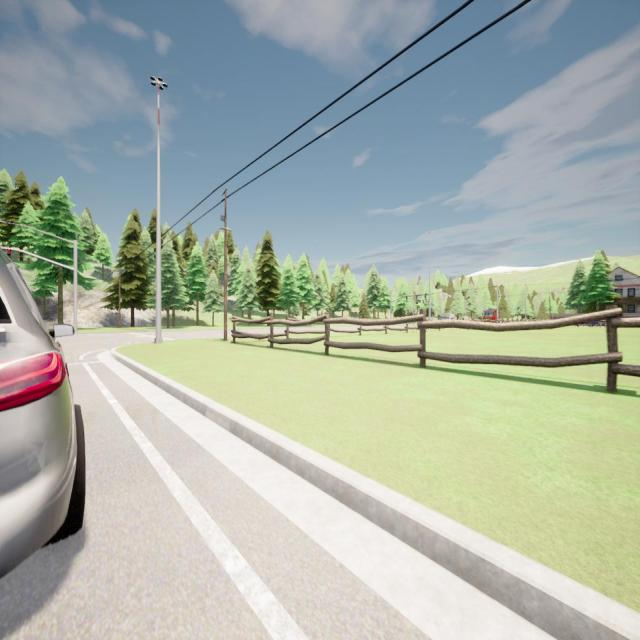Vehicle: (0, 250, 84, 576), (479, 309, 496, 320), (438, 312, 456, 320)
traffic_light: (7, 248, 12, 259)
